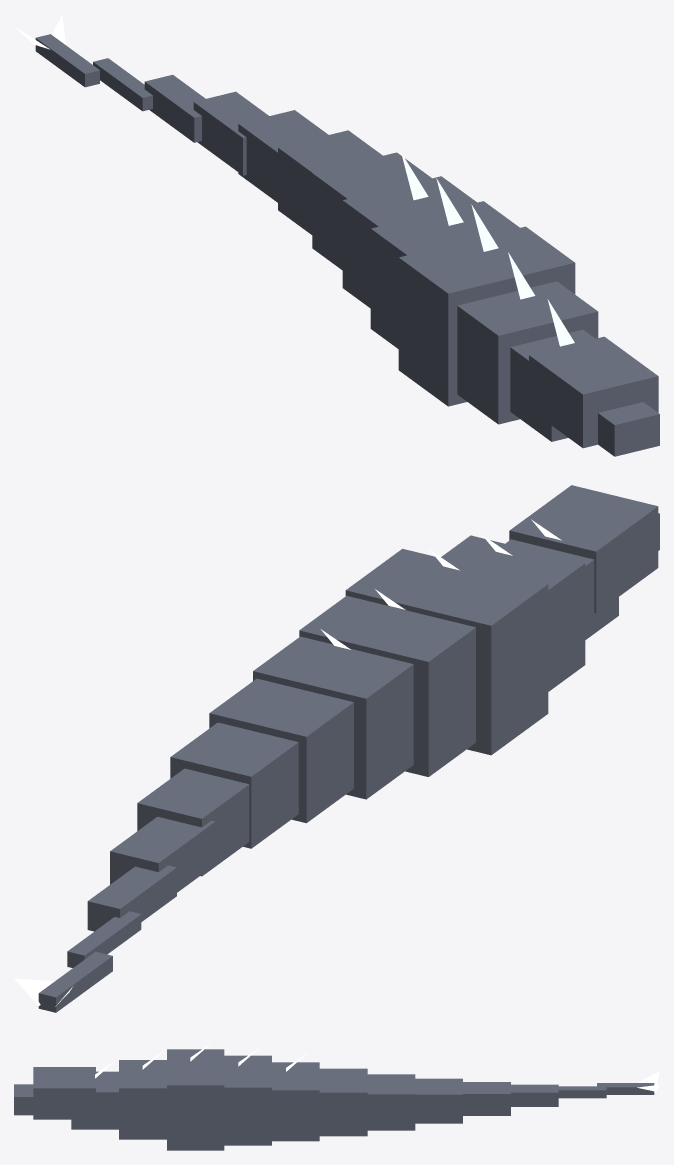
File: thundercoil.glb
3 views of the same model, one above another, from view 1: azimuth 30°, elevation 25°; view 2: azimuth 150°, elevation 25°; view 3: azimuth 270°, elevation 25° (orthographic). The views are drawn at different scales.
Parts seen in each view (by area): view 1: body, head, accents; view 2: body, head, accents; view 3: body, head, accents.
Part boxes in pixels (bbox=[...]): body: bbox=[35, 34, 598, 441]; head: bbox=[529, 336, 659, 456]; accents: bbox=[15, 15, 574, 346]; body: bbox=[38, 535, 618, 1012]; head: bbox=[509, 485, 659, 613]; accents: bbox=[14, 519, 561, 1006]; body: bbox=[71, 1049, 654, 1150]; head: bbox=[14, 1067, 95, 1119]; accents: bbox=[95, 1043, 659, 1092].
Bounding box in the file's own units: 0.8969 × 0.997 × 6.39.
